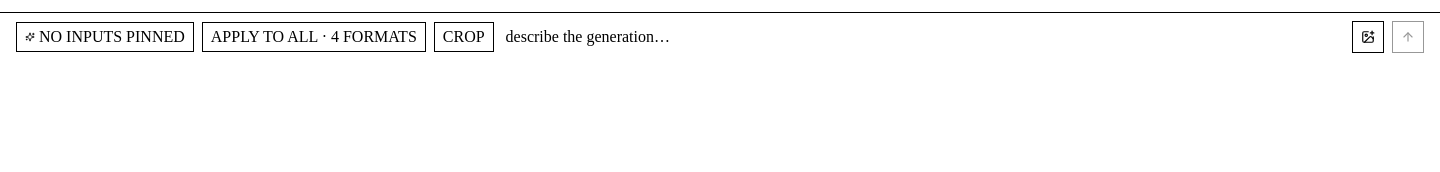
Test: PromptComposer · format-scope chip › shows the active format selector when single-format scope is active
Click the button with aria-label "format scope": click(314, 37) [202,22,426,52]
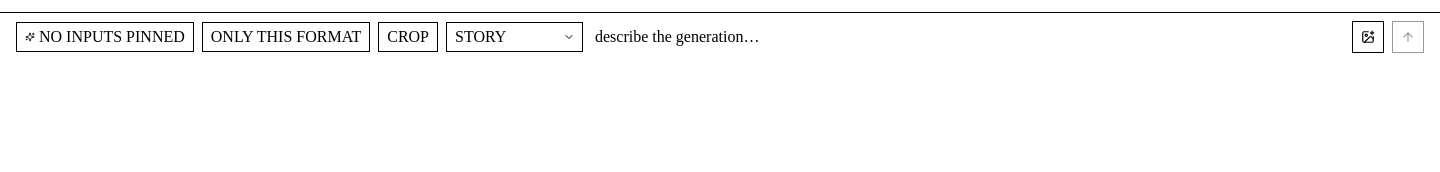
Expected: the dropdown named "active format" shows "Story", [446,22,583,52]
